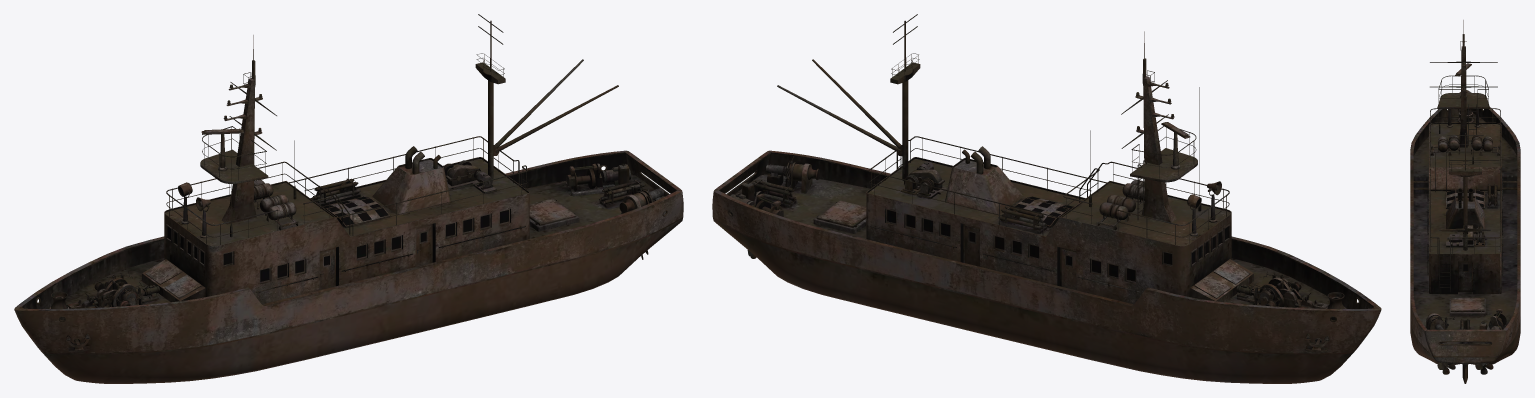
Rendered from rusted_vessel.glb.
3 renders of one model, left to right at view 1: azimuth 30°, elevation 25°; view 2: azimuth 150°, elevation 25°; view 3: azimuth 270°, elevation 25°, orthographic. The views are drawn at different scales.
Visible parts, largest first — view 1: rusted_vessel; view 2: rusted_vessel; view 3: rusted_vessel.
Part boxes in pixels (x1,y1,x2,y2): rusted_vessel: (14,14,683,383); rusted_vessel: (712,14,1381,383); rusted_vessel: (1410,20,1520,383).
Bounding box in the file's own units: 1 × 0.469 × 0.2018.
1 material, 1 textured.
